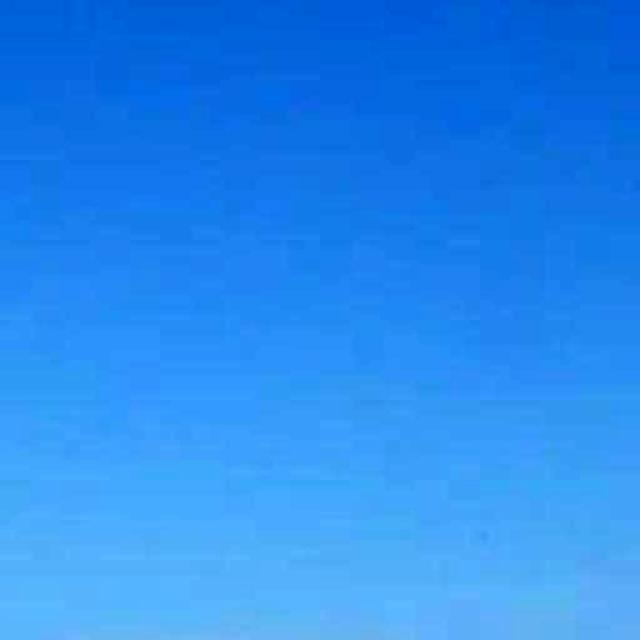drone: (445, 490, 521, 580)
